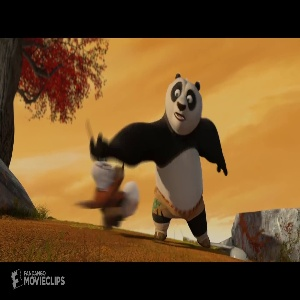po: (97, 71, 230, 248)
shifu: (84, 162, 140, 229)
